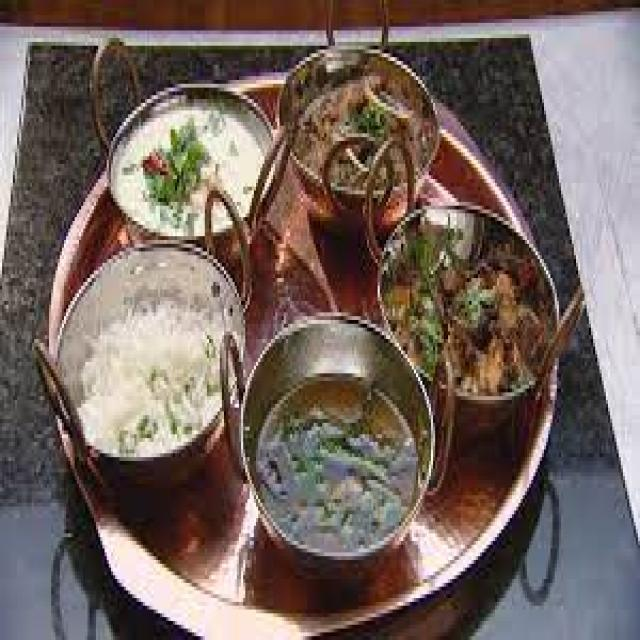rice: (74, 253, 218, 474)
veg-fry: (445, 218, 560, 417)
